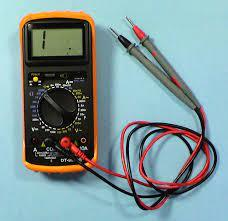multimeter: (18, 11, 216, 197)
